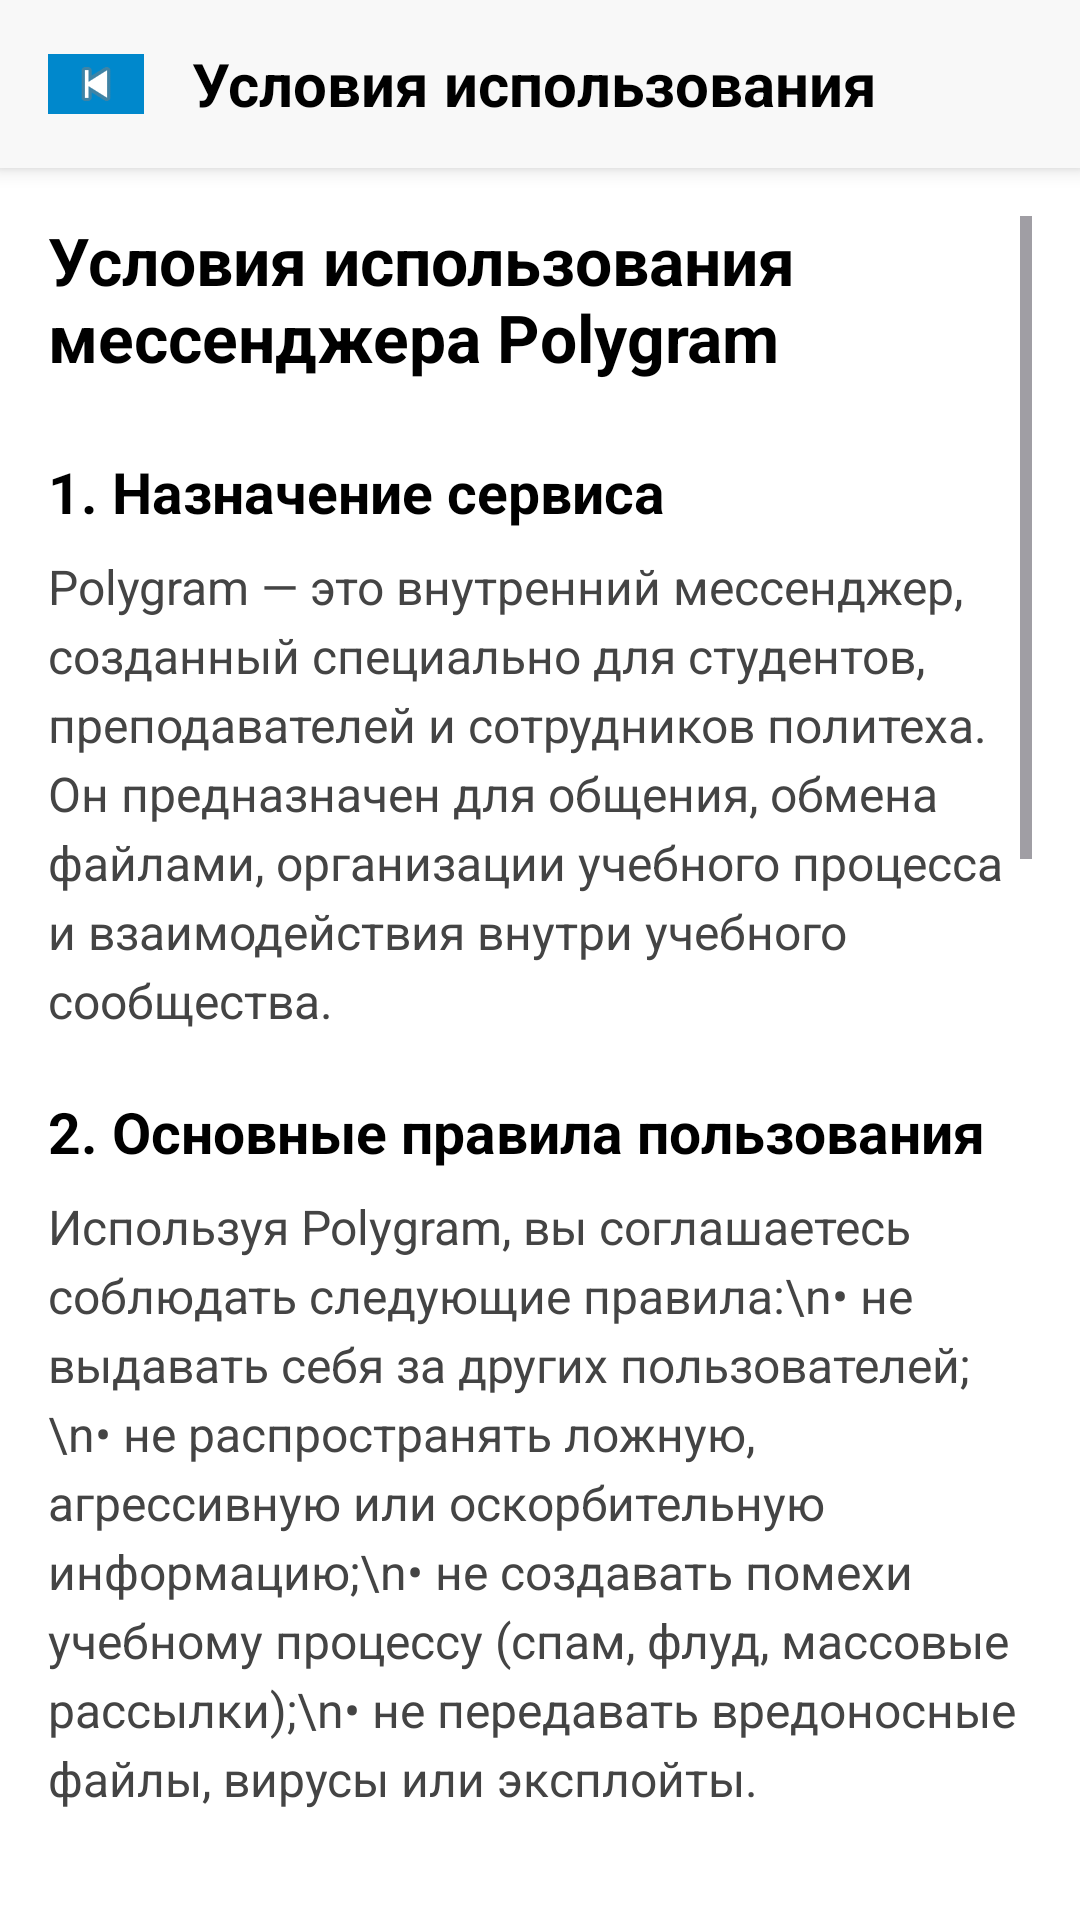

Screen size 1080 × 1920. Icon name, then its box in pixels as box=[x1, y1, x2, y2]:
previous: box=[48, 54, 144, 114]
